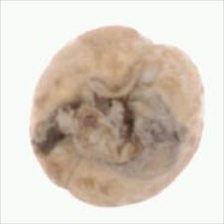L3: (74, 77, 151, 166)
L4: (29, 25, 204, 206)
